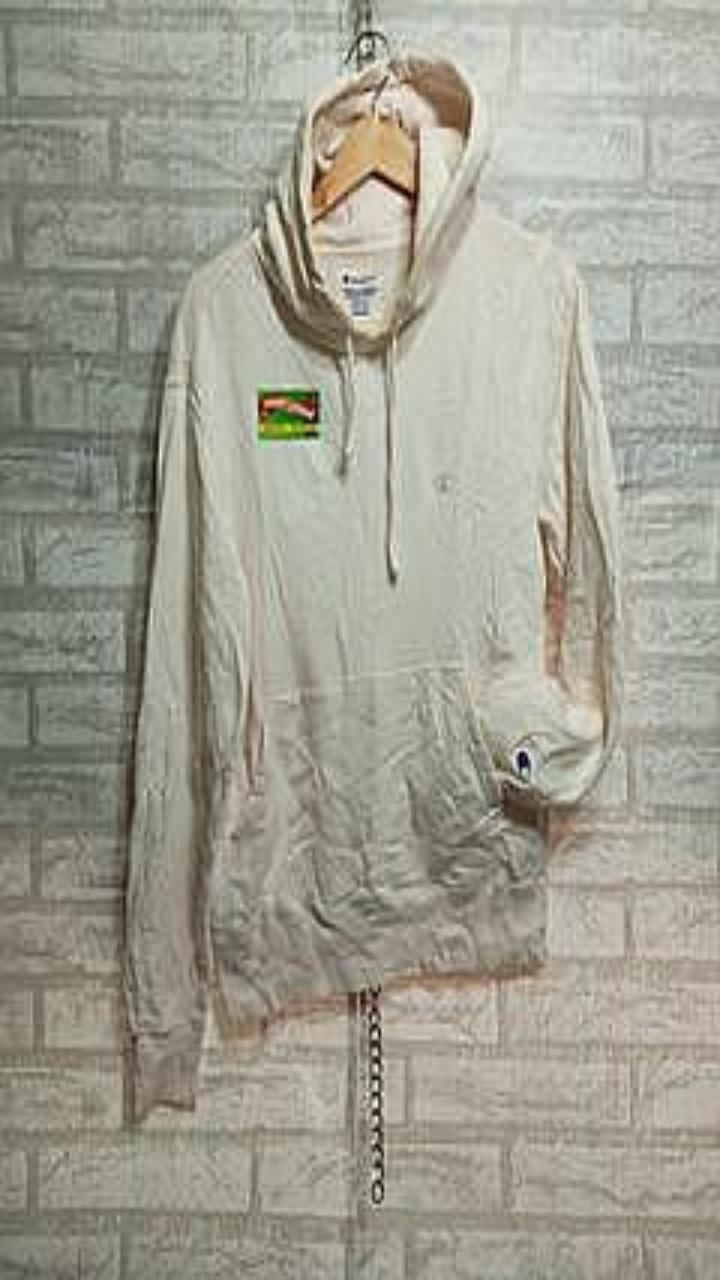Hoodie: (123, 54, 621, 1116)
